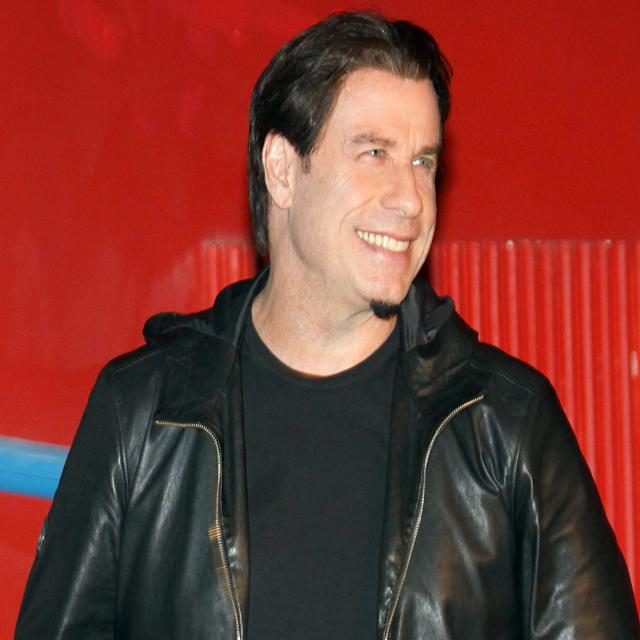no-earmuff: (256, 120, 316, 228)
